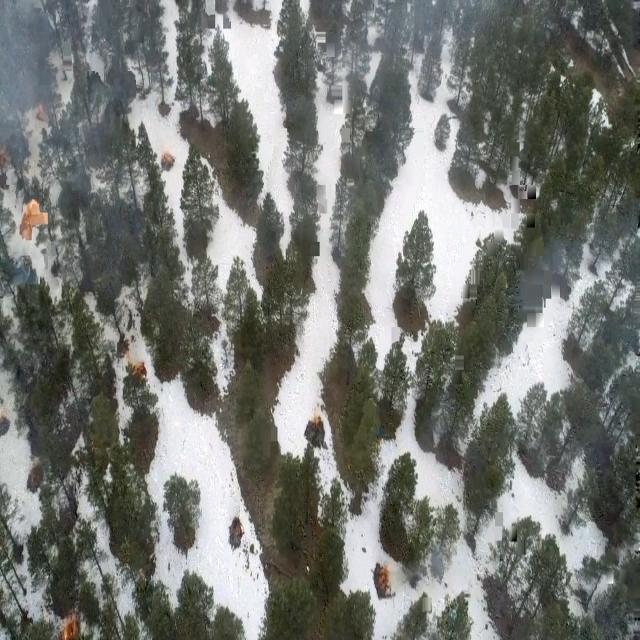Fire: (13, 183, 63, 247), (304, 388, 343, 452), (54, 601, 86, 640), (153, 144, 179, 180), (376, 557, 392, 615), (126, 356, 144, 402)
